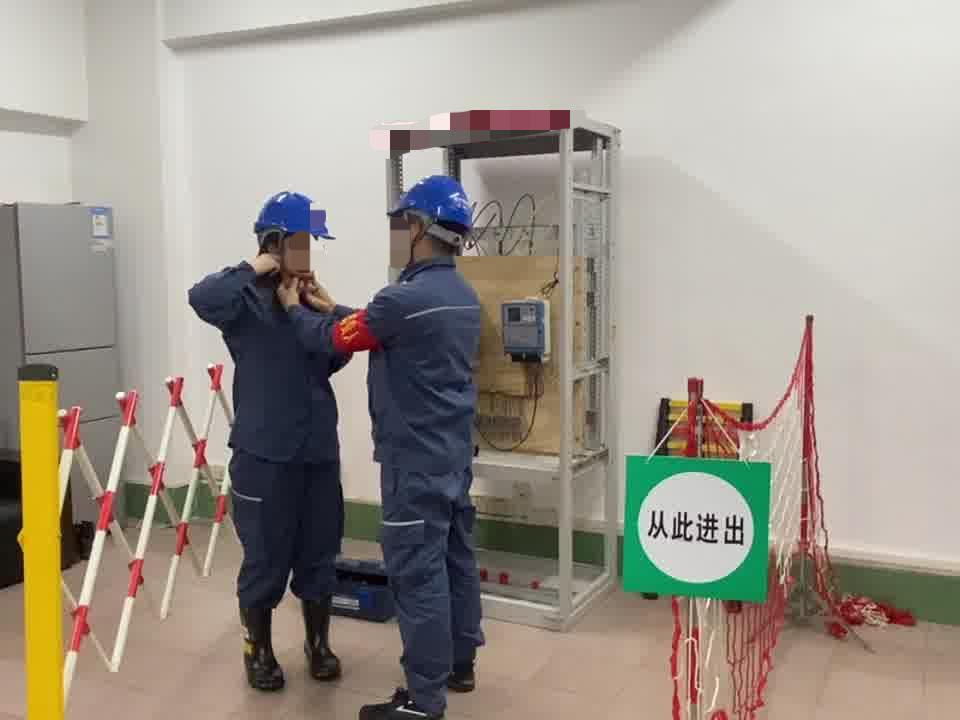halt: (390, 175, 478, 263), (256, 192, 336, 281)
inear: (402, 216, 433, 258)
